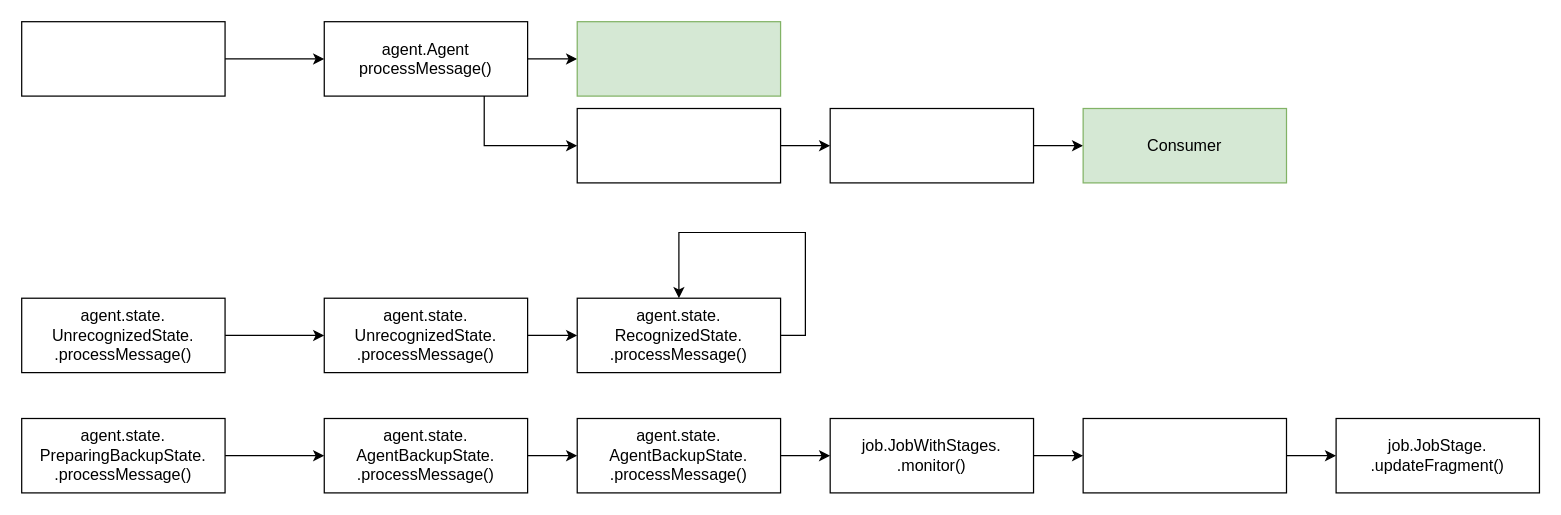
Some shapes in this 1561 by 515 pixel diagram are drawn without their labels. The centre of each missing label's shape, as x and y in pixels:
"agent.ActionOutputStream .onNext()" goes at (122,58).
"agent.Agent changeState()" goes at (678,145).
"agent.state. AgentState. processMessage()" goes at (678,58).
"agent.state. AgentStateChange. postAction()" goes at (931,145).
"job.JobWithStages. .updateProgress()" goes at (1184,455).
